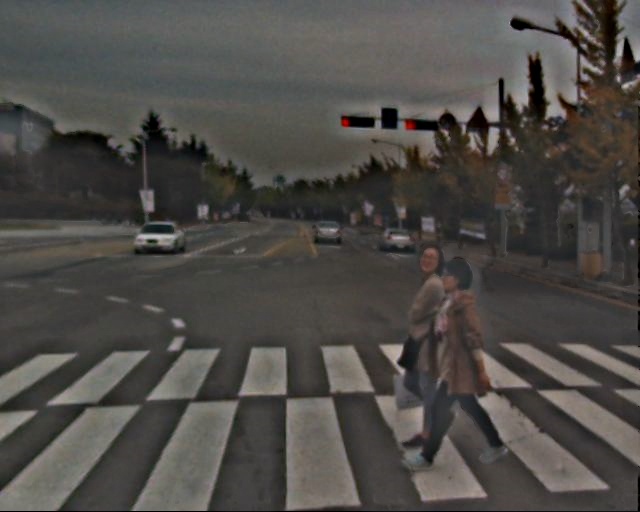person: (417, 257, 494, 467), (392, 239, 463, 445)
